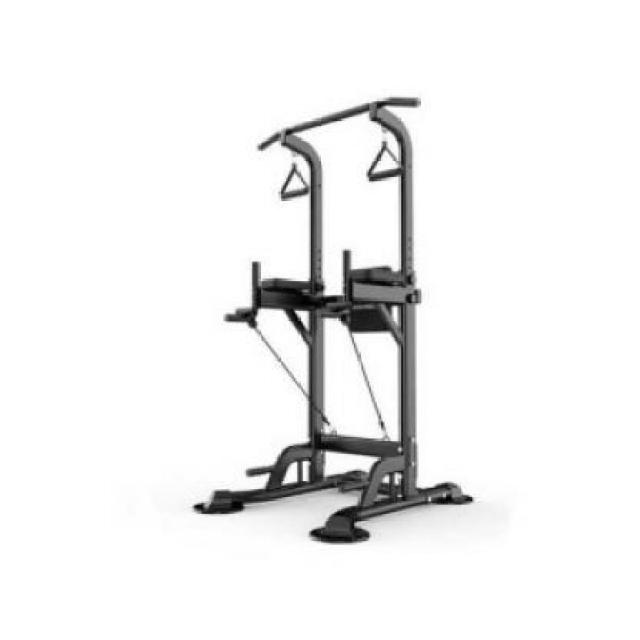chinning dipping: (191, 96, 477, 542)
